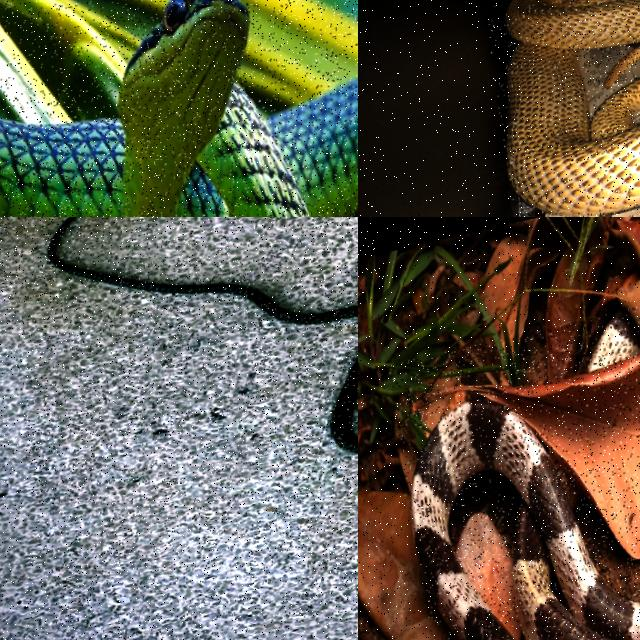Bungarus candidus: (411, 401, 639, 639)
Chrysopelea ornata: (0, 0, 357, 216), (48, 217, 357, 324)
Naja kaouthia: (506, 0, 639, 216)
snake: (0, 0, 357, 216), (411, 401, 639, 639), (48, 217, 357, 324), (506, 0, 639, 216)
